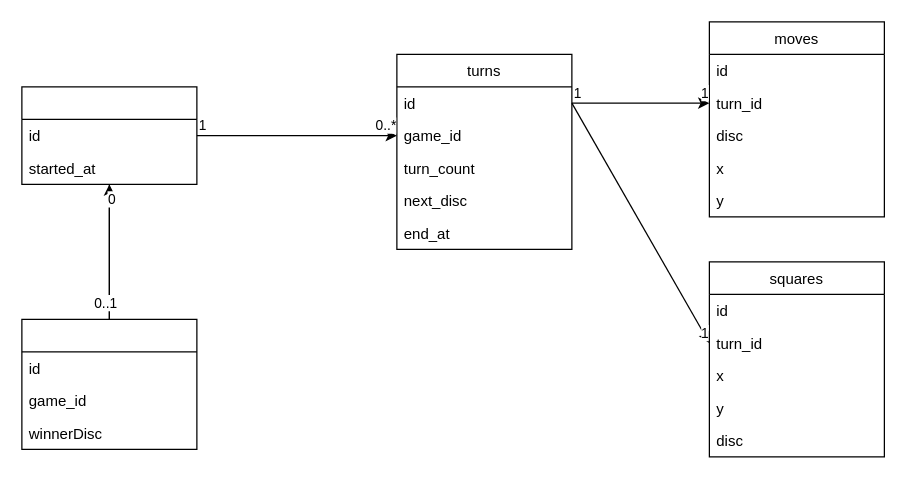
Some shapes in this 906 by 483 pixel diagram are drawn without their labels. The shapes that lost their labels are listed below. From the top down, each one's box as (x1, y1, x2, y2) in pixels, then its label:
(21, 86, 197, 184): games
(21, 318, 197, 449): game_results
